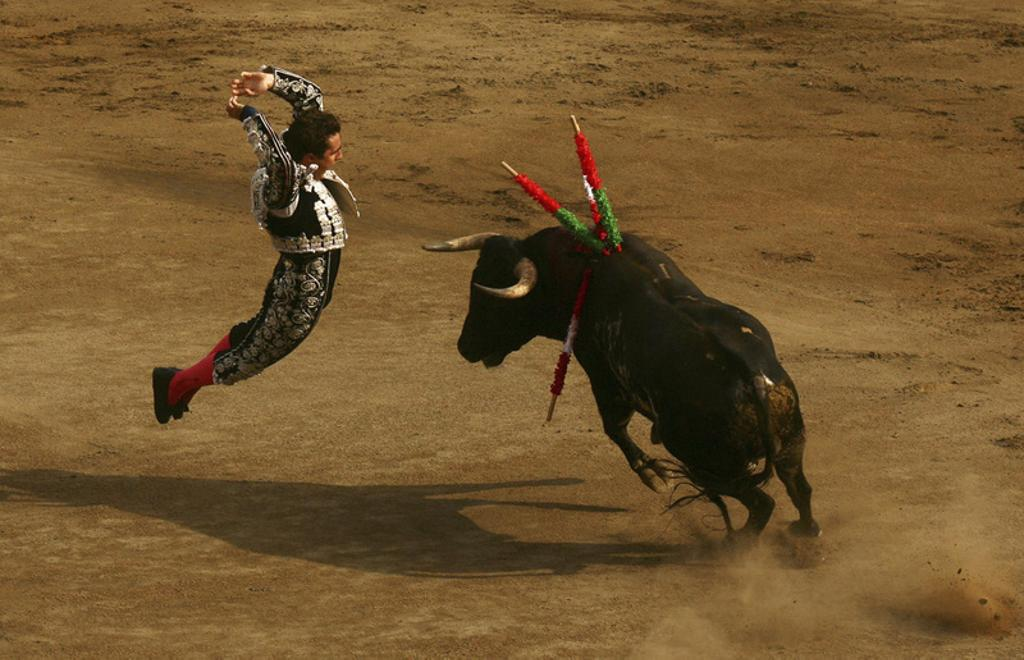face: (315, 136, 343, 172)
